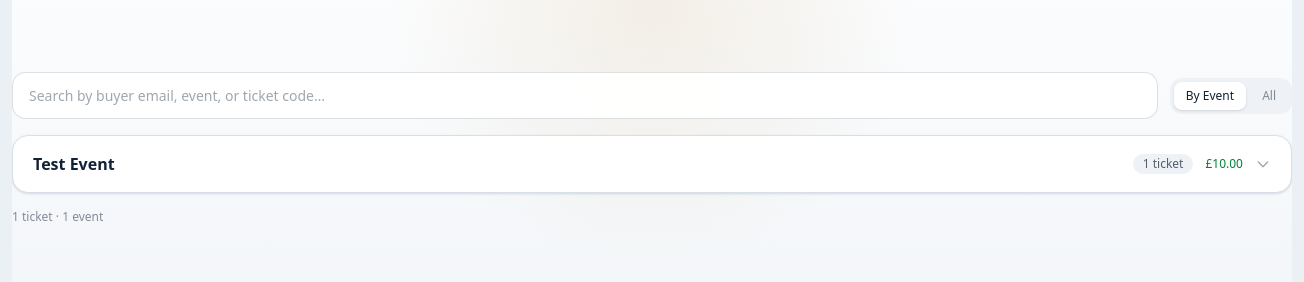
Test case: TicketsTab › shows print button in All view
Click the button "All": point(1269, 96) [1250,82,1288,110]
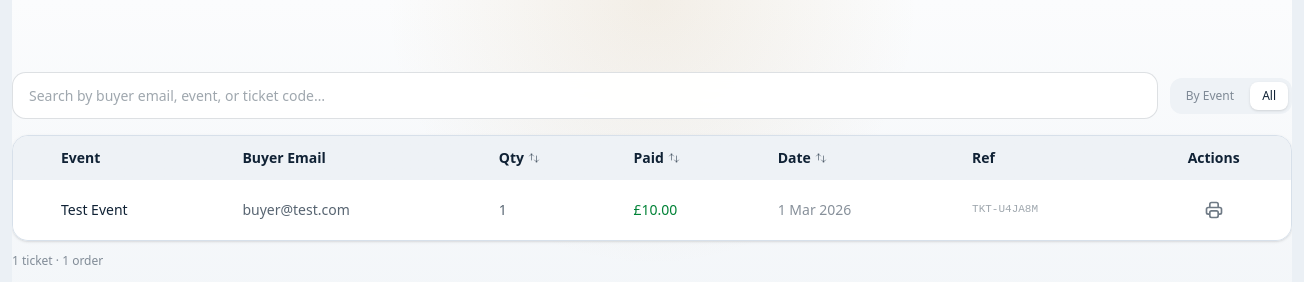
Expected: the button titled "Print ticket" is shown, [1196,192,1232,228]
